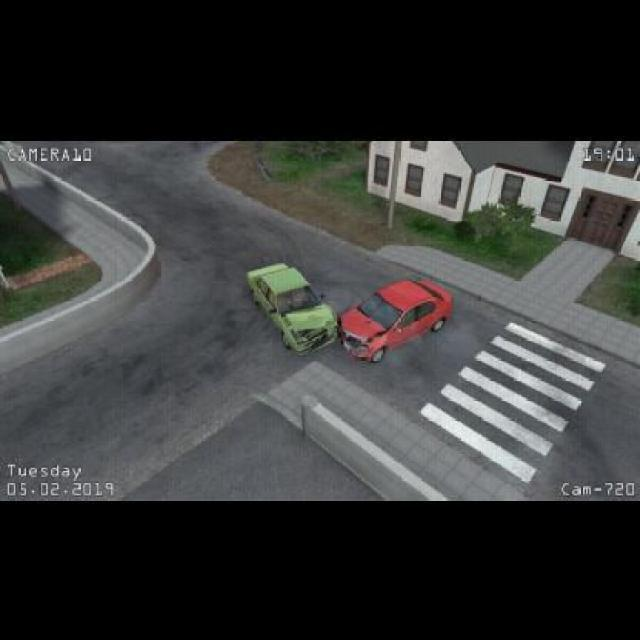accident: (232, 258, 464, 358)
